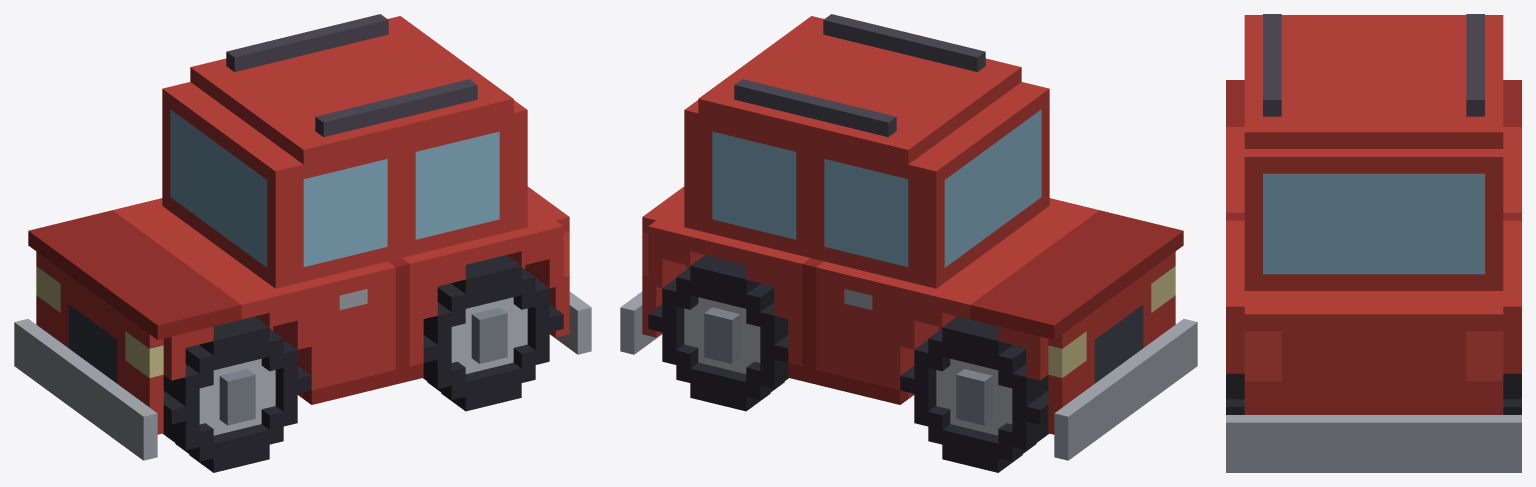
File: automobile.glb
The picture shows the model from 3 angles, left to right: view 1: azimuth 30°, elevation 25°; view 2: azimuth 150°, elevation 25°; view 3: azimuth 270°, elevation 25°; orthographic projection. The views are drawn at different scales.
Visible parts, largest first — view 1: prop; view 2: prop; view 3: prop.
Boxes of the visible parts, bbox=[...] form: prop: bbox=[14, 14, 591, 472]; prop: bbox=[620, 14, 1197, 472]; prop: bbox=[1226, 14, 1521, 472].
Bounding box in the file's own units: 16.76 × 11 × 8.38.
